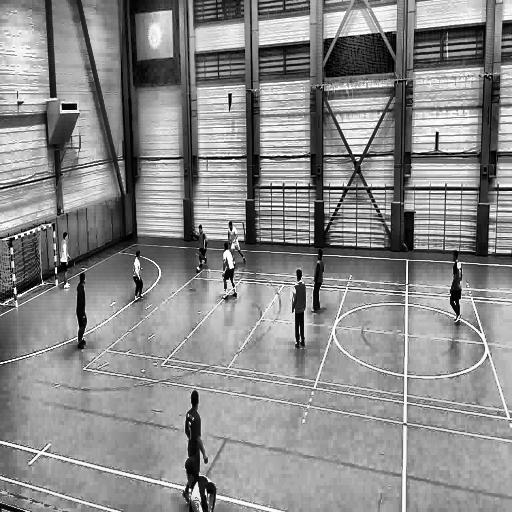ball: (196, 266, 201, 274)
player: (290, 268, 308, 352), (448, 249, 464, 327), (75, 269, 90, 352), (311, 248, 325, 314), (59, 231, 73, 292), (222, 244, 237, 300), (132, 246, 146, 304), (196, 224, 209, 266), (226, 218, 240, 241)
